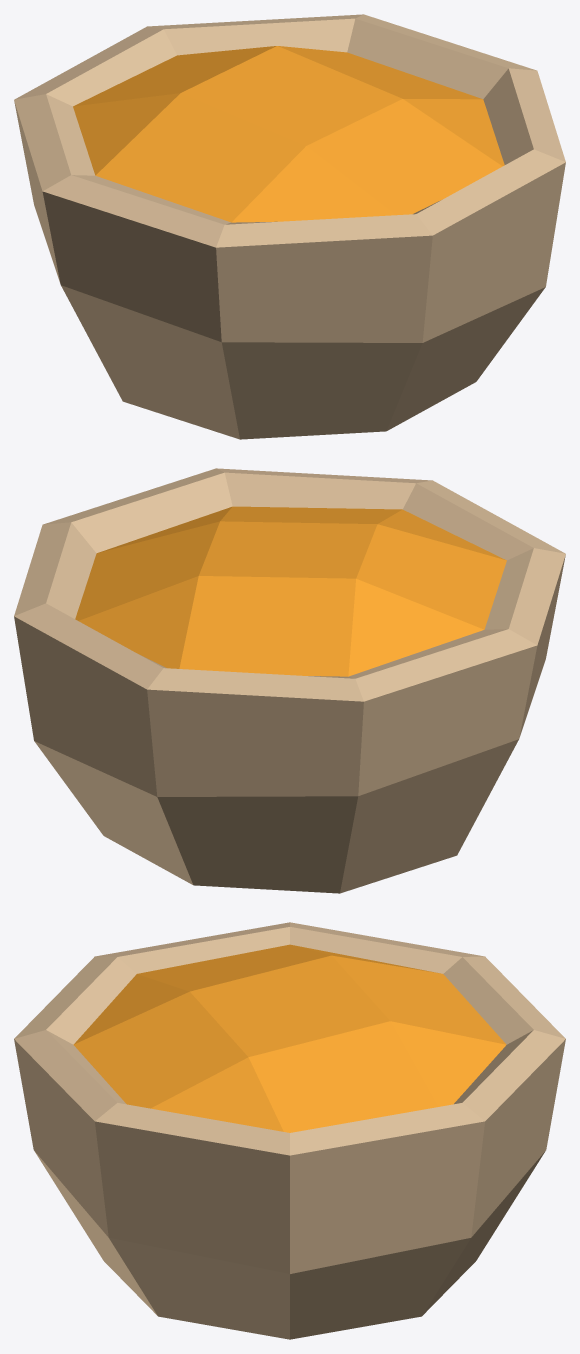
The model's file is egypt-egypt-bowl-spice.glb.
3 views of the same model, one above another, from view 1: azimuth 30°, elevation 25°; view 2: azimuth 150°, elevation 25°; view 3: azimuth 270°, elevation 25° (orthographic). The views are drawn at different scales.
Visible parts, largest first — view 1: egypt-bowl-spice; view 2: egypt-bowl-spice; view 3: egypt-bowl-spice.
Boxes of the visible parts, x1=… form: egypt-bowl-spice: x1=14, y1=14, x2=565, y2=439; egypt-bowl-spice: x1=14, y1=468, x2=565, y2=893; egypt-bowl-spice: x1=14, y1=922, x2=565, y2=1339.
Bounding box in the file's own units: 0.533 × 0.2813 × 0.533.
